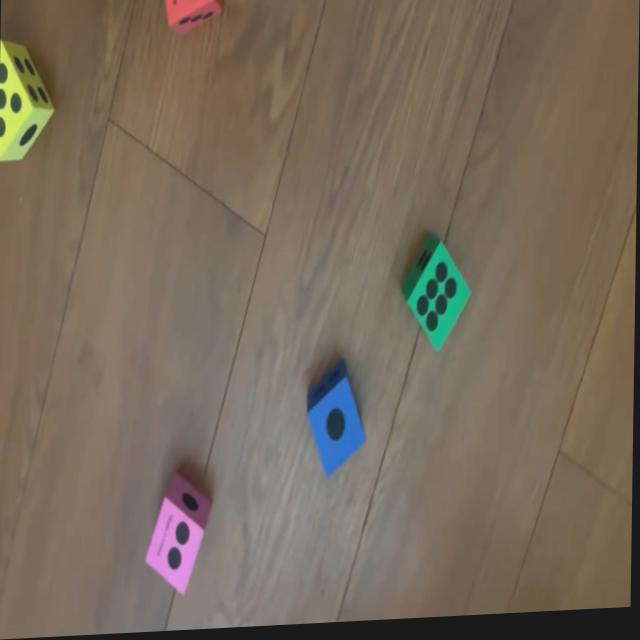blue_block: (309, 365, 367, 483)
red_block: (160, 0, 220, 35)
